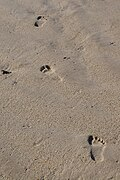human_foot_print: (88, 135, 105, 161), (40, 64, 62, 81), (34, 15, 46, 26)
